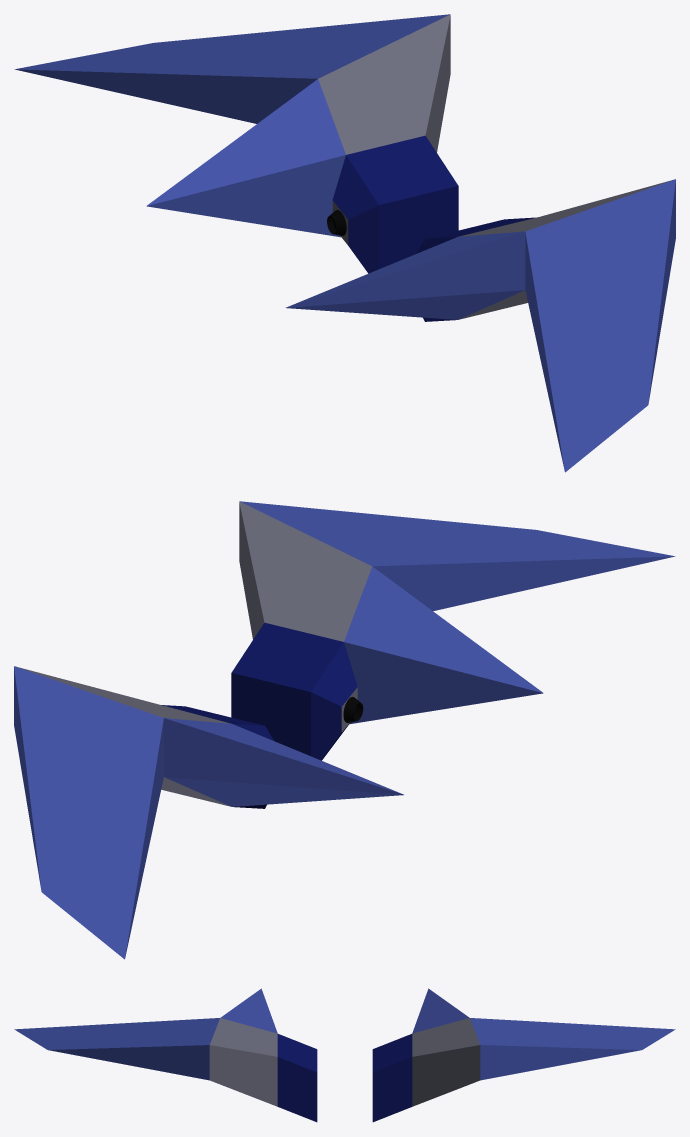
Rendered from Ship_01_Wing_01.fbx.
The picture shows the model from 3 angles, top to bottom: view 1: azimuth 30°, elevation 25°; view 2: azimuth 150°, elevation 25°; view 3: azimuth 270°, elevation 25°; orthographic projection. The views are drawn at different scales.
Parts seen in each view (by area): view 1: Ship_01_Wing_01; view 2: Ship_01_Wing_01; view 3: Ship_01_Wing_01.
Part boxes in pixels (bbox=[...]): Ship_01_Wing_01: bbox=[14, 14, 675, 472]; Ship_01_Wing_01: bbox=[14, 501, 675, 959]; Ship_01_Wing_01: bbox=[14, 988, 675, 1122].
Bounding box in the file's own units: 875 × 407 × 2402.
